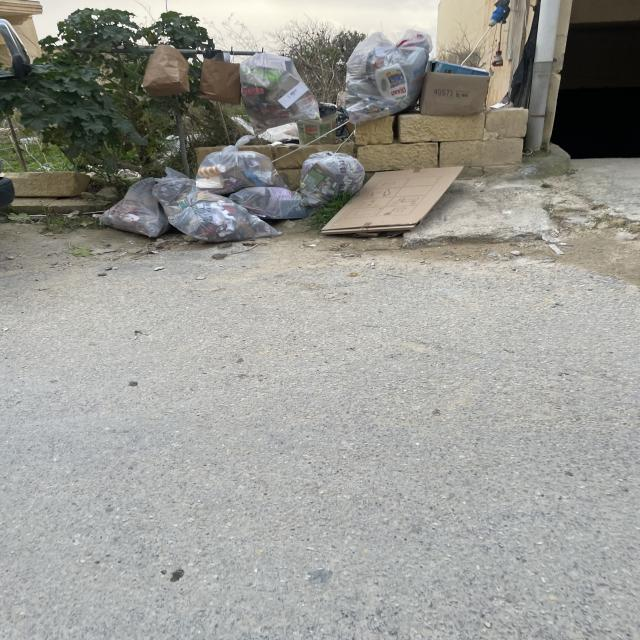grey_bag: (343, 28, 429, 124), (238, 51, 322, 134), (161, 191, 284, 240), (190, 140, 290, 186), (96, 176, 168, 237), (301, 152, 361, 204), (235, 188, 307, 221), (153, 173, 188, 200)
other_waste: (430, 59, 492, 118), (136, 42, 192, 98), (196, 48, 239, 104)
